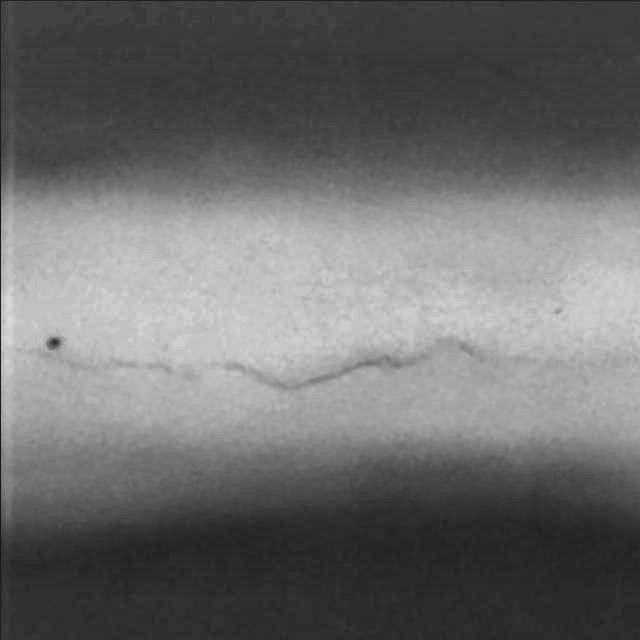Crack: (15, 285, 640, 422)
Pore: (41, 322, 70, 354)
